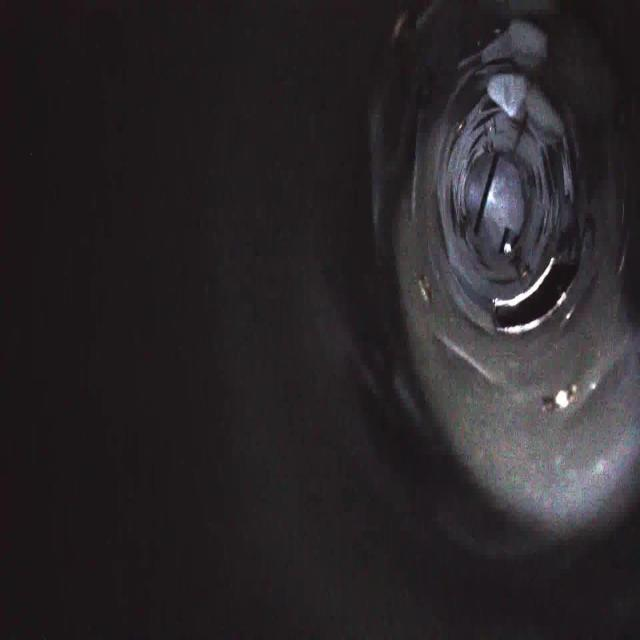crack: (433, 186, 463, 251), (469, 92, 505, 144), (534, 138, 565, 198), (508, 92, 540, 144), (437, 126, 469, 175), (537, 205, 570, 251), (487, 266, 526, 292)
hole: (487, 257, 583, 343)
